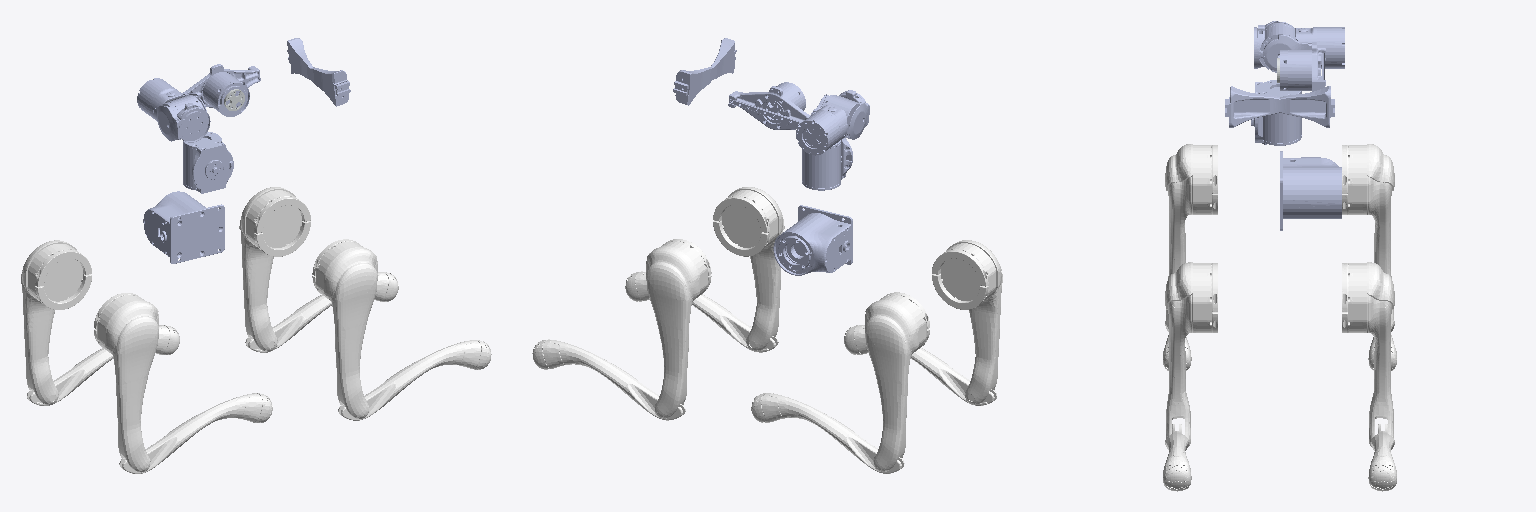
--- What the picture shows (computed from the rendered views, not written in the file) ---
3 views of the same robot in one strip: view 1: azimuth 30°, elevation 25°; view 2: azimuth 150°, elevation 25°; view 3: azimuth 270°, elevation 25° (orthographic).
Model go2arm_description with 39 links and 38 joints (12 revolute, 26 fixed), rooted at base, posed all joints at 0 but 4 set to mid-range because 0 is outside their limits (FL_calf_joint = -1.78, FR_calf_joint = -1.78, RL_calf_joint = -1.78, RR_calf_joint = -1.78).
Links seen in each view (by area): view 1: FR_thigh, RR_thigh, FL_thigh, RL_thigh, base_link, FR_calf, RR_calf, link1, gripper_base, link4, FL_calf, RL_calf (+3 smaller); view 2: FL_thigh, RL_thigh, RR_thigh, FR_thigh, base_link, RL_calf, FL_calf, gripper_base, link5, link1, RR_calf, FR_calf (+3 smaller); view 3: FL_thigh, FR_thigh, RL_thigh, RR_thigh, base_link, link5, gripper_base, link1, link8, link7, link4, FR_calf (+3 smaller).
Boxes of the visible links, box(x1,y1,x2,y2) form: FR_thigh: box(312, 239, 377, 418); RR_thigh: box(94, 293, 158, 472); FL_thigh: box(239, 187, 310, 351); RL_thigh: box(21, 240, 91, 404); base_link: box(143, 191, 224, 263); FR_calf: box(338, 340, 491, 420); RR_calf: box(119, 393, 272, 473); link1: box(183, 132, 233, 193); gripper_base: box(183, 64, 260, 116); link4: box(157, 95, 210, 142); FL_calf: box(245, 272, 398, 352); RL_calf: box(27, 325, 177, 405); FL_thigh: box(646, 239, 711, 418); RL_thigh: box(865, 292, 929, 471); RR_thigh: box(932, 240, 1002, 404); FR_thigh: box(713, 187, 784, 351); base_link: box(773, 205, 852, 275); RL_calf: box(751, 393, 904, 473); FL_calf: box(532, 340, 685, 420); gripper_base: box(728, 82, 810, 129); link5: box(796, 94, 847, 155); link1: box(802, 137, 852, 190); RR_calf: box(849, 325, 996, 405); FR_calf: box(627, 272, 778, 352); FL_thigh: box(1342, 262, 1394, 446); FR_thigh: box(1165, 262, 1217, 446); RL_thigh: box(1342, 144, 1394, 319); RR_thigh: box(1165, 144, 1217, 319); base_link: box(1280, 151, 1341, 230); link5: box(1263, 27, 1344, 70); gripper_base: box(1280, 42, 1325, 91); link1: box(1251, 80, 1301, 145); link8: box(1280, 86, 1334, 127); link7: box(1225, 86, 1279, 127); link4: box(1254, 21, 1295, 72); FR_calf: box(1163, 424, 1188, 489).
Bounding box of the posed robot: 0.6661 × 0.324 × 0.5563 m (x, y, z).
Meshes: 17 distinct files referenced, 20 mesh visuals loaded (13 Collada DAE); not drawn: 7 (reference not matched to a file when rendering).

URDF robot description (go2arm_description):
<?xml version="1.0" encoding="utf-8"?>
<!-- This URDF was automatically created by SolidWorks to URDF Exporter! Originally created by
Stephen Brawner ([email redacted]) 
     Commit Version: 1.6.0-4-g7f85cfe  Build Version: 1.6.7995.38578
     For more information, please see http://wiki.ros.org/sw_urdf_exporter -->
<robot
  name="go2arm_description">
  <link
    name="base">
    <inertial>
      <origin
        xyz="0.021112 0 -0.005366"
        rpy="0 0 0" />
      <mass
        value="6.921" />
      <inertia
        ixx="0.02448"
        ixy="0.00012166"
        ixz="0.0014849"
        iyy="0.098077"
        iyz="-3.12E-05"
        izz="0.107" />
    </inertial>
    <visual>
      <origin
        xyz="0 0 0"
        rpy="0 0 0" />
      <geometry>
        <mesh
          filename="../dae/base.dae" />
      </geometry>
      <material
        name="">
        <color
          rgba="1 1 1 1" />
      </material>
    </visual>
    <collision>
      <origin rpy="0 0 0" xyz="0 0 0" />
      <geometry>
        <box size="0.3762 0.0935 0.114" />
      </geometry>
    </collision>
  </link>

<joint name="base_to_dummy" type="fixed">
    <parent link="base"/>
    <child link="base_link"/>
    <origin xyz="0 0 0.07" rpy="0 0 0"/>
  </joint>

  <link
    name="base_link">
    <inertial>
      <origin 
        xyz="-0.00473641164191482 2.56829134630247E-05 0.041451518036016" 
        rpy="-1.5707963267948966 0 0" />
      <mass 
        value="1.02" />
      <inertia 
        ixx="0.00267433" 
        ixy="-0.00000073" 
        ixz="-0.00017389" 
        iyy="0.00282612" 
        iyz="0.0000004" 
        izz="0.00089624" />
    </inertial>
    <visual>
      <origin
        xyz="0 0 0"
        rpy="-1.5707963267948966 0 0" />
      <geometry>
        <mesh
          filename="../meshes/base_link.dae" />
      </geometry>
      <material
        name="">
        <color
          rgba="0.792156862745098 0.819607843137255 0.933333333333333 1" />
      </material>
    </visual>
    <collision>
      <origin
        xyz="0 0 0"
        rpy="-1.5707963267948966 0 0" />
      <geometry>
        <mesh
          filename="../meshes/base_link.dae" />
      </geometry>
    </collision>
  </link>
  
  <link
    name="link1">
    <inertial>
      <origin 
        xyz="0.000121504734057468 0.000104632162460536 -0.00438597309559853" 
        rpy="-1.5707963267948966 0 0" />
      <mass 
        value="0.71" />
      <inertia 
        ixx="0.00048916" 
        ixy="-0.00000036" 
        ixz="-0.00000224" 
        iyy="0.00040472" 
        iyz="-0.00000242" 
        izz="0.00043982" />
    </inertial>
    <visual>
      <origin
        xyz="0 0 0"
        rpy="-1.5707963267948966 0 0" />
      <geometry>
        <mesh
          filename="../meshes/link1.dae" />
      </geometry>
      <material
        name="">
        <color
          rgba="0.792156862745098 0.819607843137255 0.933333333333333 1" />
      </material>
    </visual>
    <collision>
      <origin
        xyz="0 0 0"
        rpy="-1.5707963267948966 0 0" />
      <geometry>
        <mesh
          filename="../meshes/link1.dae" />
      </geometry>
    </collision>
  </link>
  <joint
    name="joint1"
    type="fixed" dont_collapse="true">
    <origin
      xyz="0 0 0.123"
      rpy="0 0 0" />
    <parent
      link="base_link" />
    <child
      link="link1" />
    <axis
      xyz="0 0 0" />
    <limit
      lower="-2.618"
      upper="2.168"
      effort="100"
      velocity="5" />
  </joint>
  <link
    name="link2">
    <inertial>
      <origin 
        xyz="0.198666145229743 -0.010926924140076 0.00142121714502687" 
        rpy="-1.5707963267948966 0 0" />
      <mass 
        value="1.17" />
      <inertia 
        ixx="0.00116918" 
        ixy="-0.00180037" 
        ixz="0.00025146" 
        iyy="0.06785384" 
        iyz="-0.00000455" 
        izz="0.06774489" />
    </inertial>
    <visual>
      <origin
        xyz="0 0 0"
        rpy="-1.5707963267948966 0 0" />
      <geometry>
        <mesh
          filename="../meshes/link2.dae" />
      </geometry>
      <material
        name="">
        <color
          rgba="0.792156862745098 0.819607843137255 0.933333333333333 1" />
      </material>
    </visual>
    <collision>
      <origin
        xyz="0 0 0"
        rpy="-1.5707963267948966 0 0" />
      <geometry>
        <mesh
          filename="../meshes/link2.dae" />
      </geometry>
    </collision>
  </link>
  <joint
    name="joint2"
    type="fixed" dont_collapse="true">
    <origin
      xyz="0 0 0"
      rpy="1.5708 -0.1359 -3.1416" />
      <!-- rpy="1.5708 -0.10095-0.03490659 -3.1416" /> -->
    <parent
      link="link1" />
    <child
      link="link2" />
    <axis
      xyz="0 0 1" />
    <limit
      lower="0"
      upper="3.14"
      effort="100"
      velocity="5" />
  </joint>
  <link
    name="link3">
    <inertial>
      <origin 
        xyz="-0.0202737662122021 -0.133914995944595 -0.000458682652737356" 
        rpy="-1.5707963267948966 0 0" />
      <mass 
        value="0.5" />
      <inertia 
        ixx="0.01361711" 
        ixy="0.00165794" 
        ixz="-0.00000048" 
        iyy="0.00045024" 
        iyz="-0.00000045" 
        izz="0.01380322" />
    </inertial>
    <visual>
      <origin
        xyz="0 0 0"
        rpy="-1.5707963267948966 0 0" />
      <geometry>
        <mesh
          filename="../meshes/link3.dae" />
      </geometry>
      <material
        name="">
        <color
          rgba="0.792156862745098 0.819607843137255 0.933333333333333 1" />
      </material>
    </visual>
    <collision>
      <origin
        xyz="0 0 0"
        rpy="-1.5707963267948966 0 0" />
      <geometry>
        <mesh
          filename="../meshes/link3.dae" />
      </geometry>
    </collision>
  </link>
  <joint
    name="joint3"
    type="fixed" dont_collapse="true">
    <origin
      xyz="0.28503 0 0"
      rpy="0 0 -1.7939" />
      <!-- rpy="0 0 -1.759-0.03490659" /> -->
    <parent
      link="link2" />
    <child
      link="link3" />
    <axis
      xyz="0 0 1" />
    <limit
      lower="-2.967"
      upper="0"
      effort="100"
      velocity="5" />
  </joint>
  <link
    name="link4">
    <inertial>
      <origin 
        xyz="-9.66635791618542E-05 0.000876064475651083 -0.00496880904640868" 
        rpy="-1.5707963267948966 0 0" />
      <mass 
        value="0.38" />
      <inertia 
        ixx="0.00018501" 
        ixy="0.00000054" 
        ixz="0.00000120" 
        iyy="0.00018965" 
        iyz="-0.00000841" 
        izz="0.00015484" />
    </inertial>
    <visual>
      <origin
        xyz="0 0 0"
        rpy="-1.5707963267948966 0 0" />
      <geometry>
        <mesh
          filename="../meshes/link4.dae" />
      </geometry>
      <material
        name="">
        <color
          rgba="0.792156862745098 0.819607843137255 0.933333333333333 1" />
      </material>
    </visual>
    <collision>
      <origin
        xyz="0 0 0"
        rpy="-1.5707963267948966 0 0" />
      <geometry>
        <mesh
          filename="../meshes/link4.dae" />
      </geometry>
    </collision>
  </link>
  <joint
    name="joint4"
    type="fixed" dont_collapse="true">
    <origin
      xyz="-0.021984 -0.25075 0"
      rpy="1.5708 0 0" />
    <parent
      link="link3" />
    <child
      link="link4" />
    <axis
      xyz="0 0 1" />
    <limit
      lower="-1.745"
      upper="1.745"
      effort="100"
      velocity="5" />
  </joint>
  <link
    name="link5">
    <inertial>
      <origin 
        xyz="-4.10554118924211E-05 -0.0566486692356075 -0.0037205791677906" 
        rpy="-1.5707963267948966 0 0" />
      <mass 
        value="0.383" />
      <inertia 
        ixx="0.00166169" 
        ixy="0.00000006" 
        ixz="-0.00000007" 
        iyy="0.00018510" 
        iyz="0.00001026" 
        izz="0.00164321" />
    </inertial>
    <visual>
      <origin
        xyz="0 0 0"
        rpy="-1.5707963267948966 0 0" />
      <geometry>
        <mesh
          filename="../meshes/link5.dae" />
      </geometry>
      <material
        name="">
        <color
          rgba="0.792156862745098 0.819607843137255 0.933333333333333 1" />
      </material>
    </visual>
    <collision>
      <origin
        xyz="0 0 0"
        rpy="-1.5707963267948966 0 0" />
      <geometry>
        <mesh
          filename="../meshes/link5.dae" />
      </geometry>
    </collision>
  </link>
  <joint
    name="joint5"
    type="fixed" dont_collapse="true">
    <origin
      xyz="0 0 0"
      rpy="-1.5708 0 0" />
    <parent
      link="link4" />
    <child
      link="link5" />
    <axis
      xyz="0 0 1" />
    <limit
      lower="-1.22"
      upper="1.22"
      effort="100"
      velocity="5" />
  </joint>
  <link
    name="link6">
    <inertial>
      <origin 
        xyz="-8.82590762930069E-05 9.0598378529832E-06 -0.002" 
        rpy="-1.5707963267948966 0 0" />
      <mass 
        value="0.007" />
      <inertia 
        ixx="5.73015540542155E-07" 
        ixy="-1.98305403089247E-22" 
        ixz="-7.2791893904596E-23" 
        iyy="5.73015540542155E-07" 
        iyz="-3.4146026640245E-24" 
        izz="1.06738869138926E-06" />
    </inertial>
    <visual>
      <origin
        xyz="0 0 0"
        rpy="-1.5707963267948966 0 0" />
      <geometry>
        <mesh
          filename="../meshes/link6.dae" />
      </geometry>
      <material
        name="">
        <color
          rgba="0.898039215686275 0.917647058823529 0.929411764705882 1" />
      </material>
    </visual>
    <collision>
      <origin
        xyz="0 0 0"
        rpy="-1.5707963267948966 0 0" />
      <geometry>
        <mesh
          filename="../meshes/link6.dae" />
      </geometry>
    </collision>
  </link>
  <joint
    name="joint6"
    type="fixed" dont_collapse="true">
    <origin
      xyz="8.8259E-05 -0.091 0"
      rpy="1.5708 0 0" />
    <parent
      link="link5" />
    <child
      link="link6" />
    <axis
      xyz="0 0 1" />
    <limit
      lower="-2.0944"
      upper="2.0944"
      effort="100"
      velocity="3" />
  </joint>
  <link
    name="gripper_base">
    <inertial>
      <origin
        xyz="-0.000183807162235591 8.05033155577911E-05 0.0321436689908876"
        rpy="-1.5707963267948966 0 0" />
      <mass
        value="0.45" />
      <inertia
        ixx="0.00092934"
        ixy="0.00000034"
        ixz="-0.00000738"
        iyy="0.00071447"
        iyz="0.00000005"
        izz="0.00039442" />
    </inertial>
    <visual>
      <origin
        xyz="0 0 0"
        rpy="-1.5707963267948966 0 0" />
      <geometry>
        <mesh
          filename="../meshes/gripper_base.dae" />
      </geometry>
      <material
        name="">
        <color
          rgba="0.792156862745098 0.819607843137255 0.933333333333333 1" />
      </material>
    </visual>
    <collision>
      <origin
        xyz="0 0 0"
        rpy="-1.5707963267948966 0 0" />
      <geometry>
        <mesh
          filename="../meshes/gripper_base.dae" />
      </geometry>
    </collision>
  </link> 
  <joint
    name="joint6_to_gripper_base"
    type="fixed">
    <origin
      xyz="0 0 0"
      rpy="0 0 0" />
    <parent
      link="link6" />
    <child
      link="gripper_base" />
  </joint>
  <link
    name="link7">
    <inertial>
      <origin
        xyz="0.00065123185041968 -0.0491929869131989 0.00972258769184025"
        rpy="-1.5707963267948966 0 0" />
      <mass
        value="0.025" />
      <inertia
        ixx="0.00007371"
        ixy="-0.00000113"
        ixz="0.00000021"
        iyy="0.00000781"
        iyz="-0.00001372"
        izz="0.0000747" />
    </inertial>
    <visual>
      <origin
        xyz="0 0 0"
        rpy="-1.5707963267948966 0 0" />
      <geometry>
        <mesh
          filename="../meshes/link7.dae" />
      </geometry>
      <material
        name="">
        <color
          rgba="0.792156862745098 0.819607843137255 0.933333333333333 1" />
      </material>
    </visual>
    <collision>
      <origin
        xyz="0 0 0"
        rpy="-1.5707963267948966 0 0" />
      <geometry>
        <mesh
          filename="../meshes/link7.dae" />
      </geometry>
    </collision>
  </link>
  <joint
    name="r_finger_joint"
    type="fixed" dont_collapse="true">
    <origin
      xyz="0 0 0.1358"
      rpy="1.5708 0 0" />
    <parent
      link="gripper_base" />
    <child
      link="link7" />
    <axis
      xyz="0 0 1" />
    <limit
      lower="0"
      upper="0.035"
      effort="10"
      velocity="1" />
  </joint>
  <link
    name="link8">
    <inertial>
      <origin
        xyz="0.000651231850419722 -0.0491929869131991 0.00972258769184024"
        rpy="-1.5707963267948966 0 0" />
      <mass
        value="0.025" />
      <inertia
        ixx="0.00007371"
        ixy="-0.00000113"
        ixz="0.00000021"
        iyy="0.00000781"
        iyz="-0.00001372"
        izz="0.0000747" />
    </inertial>
    <visual>
      <origin
        xyz="0 0 0"
        rpy="-1.5707963267948966 0 0" />
      <geometry>
        <mesh
          filename="../meshes/link8.dae" />
      </geometry>
      <material
        name="">
        <color
          rgba="0.792156862745098 0.819607843137255 0.933333333333333 1" />
      </material>
    </visual>
    <collision>
      <origin
        xyz="0 0 0"
        rpy="-1.5707963267948966 0 0" />
      <geometry>
        <mesh
          filename="../meshes/link8.dae" />
      </geometry>
    </collision>
  </link>
  <joint
    name="l_finger_joint"
    type="fixed" dont_collapse="true">
    <origin
      xyz="0 0 0.1358"
      rpy="1.5708 0 -3.1416" />
    <parent
      link="gripper_base" />
    <child
      link="link8" />
    <axis
      xyz="0 0 -1" />
    <limit
      lower="-0.035"
      upper="0"
      effort="10"
      velocity="1" />
  </joint>

  <link
    name="Head_upper">
    <inertial>
      <origin
        xyz="0 0 0"
        rpy="0 0 0" />
      <mass
        value="0.001" />
      <inertia
        ixx="9.6e-06"
        ixy="0"
        ixz="0"
        iyy="9.6e-06"
        iyz="0"
        izz="9.6e-06" />
    </inertial>
    <collision>
      <origin
        xyz="0 0 0"
        rpy="0 0 0" />
      <geometry>
        <cylinder radius="0.05" length="0.09" />
      </geometry>
    </collision>
  </link>
  <joint
    name="Head_upper_joint"
    type="fixed" dont_collapse="true">
    <origin
      xyz="0.285 0 0.01"
      rpy="0 0 0" />
    <parent
      link="base" />
    <child
      link="Head_upper" />
    <axis
      xyz="0 0 0" />
  </joint>
  <link
    name="Head_lower">
    <inertial>
      <origin
        xyz="0 0 0"
        rpy="0 0 0" />
      <mass
        value="0.001" />
      <inertia
        ixx="9.6e-06"
        ixy="0"
        ixz="0"
        iyy="9.6e-06"
        iyz="0"
        izz="9.6e-06" />
    </inertial>
    <collision>
      <origin
        xyz="0 0 0"
        rpy="0 0 0" />
      <geometry>
        <sphere radius="0.047" />
      </geometry>
    </collision>
  </link>
  <joint
    name="Head_lower_joint"
    type="fixed" dont_collapse="true">
    <origin
      xyz="0.008 0 -0.07"
      rpy="0 0 0" />
    <parent
      link="Head_upper" />
    <child
      link="Head_lower" />
    <axis
      xyz="0 0 0" />
  </joint>
  <link
    name="FL_hip">
    <inertial>
      <origin
        xyz="-0.0054 0.00194 -0.000105"
        rpy="0 0 0" />
      <mass
        value="0.678" />
      <inertia
        ixx="0.00048"
        ixy="-3.01E-06"
        ixz="1.11E-06"
        iyy="0.000884"
        iyz="-1.42E-06"
        izz="0.000596" />
    </inertial>
    <visual>
      <origin
        xyz="0 0 0"
        rpy="0 0 0" />
      <geometry>
        <mesh
          filename="../dae/hip.dae" />
      </geometry>
      <material
        name="">
        <color
          rgba="1 1 1 1" />
      </material>
    </visual>
    <collision>
      <origin rpy="1.5707963267948966 0 0" xyz="0 0.08 0" />
      <geometry>
        <cylinder length="0.04" radius="0.046" />
      </geometry>
    </collision>
  </link>
  <joint
    name="FL_hip_joint"
    type="revolute">
    <origin
      xyz="0.1934 0.0465 0"
      rpy="0 0 0" />
    <parent
      link="base" />
    <child
      link="FL_hip" />
    <axis
      xyz="1 0 0" />
    <limit
      lower="-1.0472"
      upper="1.0472"
      effort="23.7"
      velocity="30.1" />
  </joint>
  <link
    name="FL_thigh">
    <inertial>
      <origin
        xyz="-0.00374 -0.0223 -0.0327"
        rpy="0 0 0" />
      <mass
        value="1.152" />
      <inertia
        ixx="0.00584"
        ixy="8.72E-05"
        ixz="-0.000289"
        iyy="0.0058"
        iyz="0.000808"
        izz="0.00103" />
    </inertial>
    <visual>
      <origin
        xyz="0 0 0"
        rpy="0 0 0" />
      <geometry>
        <mesh
          filename="../dae/thigh.dae" />
      </geometry>
      <material
        name="">
        <color
          rgba="1 1 1 1" />
      </material>
    </visual>
    <collision>
      <origin rpy="0 1.5707963267948966 0" xyz="0 0 -0.1065" />
      <geometry>
        <box size="0.11 0.0245 0.034" />
      </geometry>
    </collision>
  </link>
  <joint
    name="FL_thigh_joint"
    type="revolute">
    <origin
      xyz="0 0.0955 0"
      rpy="0 0 0" />
    <parent
      link="FL_hip" />
    <child
      link="FL_thigh" />
    <axis
      xyz="0 1 0" />
    <limit
      lower="-1.5708"
      upper="3.4907"
      effort="23.7"
      velocity="30.1" />
  </joint>
  <link
    name="FL_calf">
    <inertial>
      <origin
        xyz="0.00548 -0.000975 -0.115"
        rpy="0 0 0" />
      <mass
        value="0.154" />
      <inertia
        ixx="0.00108"
        ixy="3.4E-07"
        ixz="1.72E-05"
        iyy="0.0011"
        iyz="8.28E-06"
        izz="3.29E-05" />
    </inertial>
    <visual>
      <origin
        xyz="0 0 0"
        rpy="0 0 0" />
      <geometry>
        <mesh
          filename="../dae/calf.dae" />
      </geometry>
      <material
        name="">
        <color
          rgba="1 1 1 1" />
      </material>
    </visual>
    <collision>
      <origin rpy="0 -0.21 0" xyz="0.008 0 -0.06" />
      <geometry>
        <cylinder length="0.12" radius="0.012" />
      </geometry>
    </collision>
  </link>
  <joint
    name="FL_calf_joint"
    type="revolute">
    <origin
      xyz="0 0 -0.213"
      rpy="0 0 0" />
    <parent
      link="FL_thigh" />
    <child
      link="FL_calf" />
    <axis
      xyz="0 1 0" />
    <limit
      lower="-2.7227"
      upper="-0.83776"
      effort="35.55"
      velocity="20.07" />
  </joint>
  <link
    name="FL_calflower">
    <collision>
      <origin rpy="0 0 0" xyz="0 0 0" />
      <geometry>
        <cylinder length="0.065" radius="0.011" />
      </geometry>
    </collision>
  </link>
  <joint
    name="FL_calflower_joint"
    type="fixed">
    <origin
      xyz="0.020 0 -0.148"
      rpy="0 0.05 0" />
    <parent
      link="FL_calf" />
    <child
      link="FL_calflower" />
    <axis
      xyz="0 0 0" />
  </joint>
  <link
    name="FL_calflower1">
    <collision>
      <origin rpy="0 0 0" xyz="0 0 0" />
      <geometry>
        <cylinder length="0.03" radius="0.0155" />
      </geometry>
    </collision>
  </link>
  <joint
    name="FL_calflower1_joint"
    type="fixed">
    <origin
      xyz="-0.01 0 -0.04"
      rpy="0 0.48 0" />
    <parent
      link="FL_calflower" />
    <child
      link="FL_calflower1" />
    <axis
      xyz="0 0 0" />
  </joint>
  <link
    name="FL_foot">
    <inertial>
      <origin
        xyz="0 0 0"
        rpy="0 0 0" />
      <mass
        value="0.04" />
      <inertia
        ixx="9.6e-06"
        ixy="0"
        ixz="0"
        iyy="9.6e-06"
        iyz="0"
        izz="9.6e-06" />
    </inertial>
    <visual>
      <origin
        xyz="0 0 0"
        rpy="0 0 0" />
      <geometry>
        <mesh
          filename="../dae/foot.dae" />
      </geometry>
      <material
        name="">
        <color
          rgba="1 1 1 1" />
      </material>
    </visual>
    <collision>
      <origin rpy="0 0 0" xyz="-0.002 0 0" />
      <geometry>
        <sphere radius="0.022" />
      </geometry>
    </collision>
  </link>
  <joint
    name="FL_foot_joint"
    type="fixed" dont_collapse="true">
    <origin
      xyz="0 0 -0.213"
      rpy="0 0 0" />
    <parent
      link="FL_calf" />
    <child
      link="FL_foot" />
    <axis
      xyz="0 0 0" />
  </joint>
  <link
    name="FR_hip">
    <inertial>
      <origin
        xyz="-0.0054 -0.00194 -0.000105"
        rpy="0 0 0" />
      <mass
        value="0.678" />
      <inertia
        ixx="0.00048"
        ixy="3.01E-06"
        ixz="1.11E-06"
        iyy="0.000884"
        iyz="1.42E-06"
        izz="0.000596" />
    </inertial>
    <visual>
      <origin
        xyz="0 0 0"
        rpy="3.1415 0 0" />
      <geometry>
        <mesh
          filename="../dae/hip.dae" />
      </geometry>
      <material
        name="">
        <color
          rgba="1 1 1 1" />
      </material>
    </visual>
    <collision>
      <origin rpy="1.5707963267948966 0 0" xyz="0 -0.08 0" />
      <geometry>
        <cylinder length="0.04" radius="0.046" />
      </geometry>
    </collision>
  </link>
  <joint
    name="FR_hip_joint"
    type="revolute">
    <origin
      xyz="0.1934 -0.0465 0"
      rpy="0 0 0" />
    <parent
      link="base" />
    <child
      link="FR_hip" />
    <axis
      xyz="1 0 0" />
    <limit
      lower="-1.0472"
      upper="1.0472"
      effort="23.7"
      velocity="30.1" />
  </joint>
  <link
    name="FR_thigh">
    <inertial>
      <origin
        xyz="-0.00374 0.0223 -0.0327"
        rpy="0 0 0" />
      <mass
        value="1.152" />
      <inertia
        ixx="0.00584"
        ixy="-8.72E-05"
        ixz="-0.000289"
        iyy="0.0058"
        iyz="-0.000808"
        izz="0.00103" />
    </inertial>
    <visual>
      <origin
        xyz="0 0 0"
        rpy="0 0 0" />
      <geometry>
        <mesh
          filename="../dae/thigh_mirror.dae" />
      </geometry>
      <material
        name="">
        <color
          rgba="1 1 1 1" />
      </material>
    </visual>
    <collision>
      <origin rpy="0 1.5707963267948966 0" xyz="0 0 -0.1065" />
      <geometry>
        <box size="0.11 0.0245 0.034" />
      </geometry>
    </collision>
  </link>
  <joint
    name="FR_thigh_joint"
    type="revolute">
    <origin
      xyz="0 -0.0955 0"
      rpy="0 0 0" />
    <parent
      link="FR_hip" />
    <child
      link="FR_thigh" />
    <axis
      xyz="0 1 0" />
    <limit
      lower="-1.5708"
      upper="3.4907"
      effort="23.7"
      velocity="30.1" />
  </joint>
  <link
    name="FR_calf">
    <inertial>
      <origin
        xyz="0.00548 0.000975 -0.115"
        rpy="0 0 0" />
      <mass
        value="0.154" />
      <inertia
        ixx="0.00108"
        ixy="-3.4E-07"
        ixz="1.72E-05"
        iyy="0.0011"
        iyz="-8.28E-06"
        izz="3.29E-05" />
    </inertial>
    <visual>
      <origin
        xyz="0 0 0"
        rpy="0 0 0" />
      <geometry>
        <mesh
          filename="../dae/calf_mirror.dae" />
      </geometry>
      <material
        name="">
        <color
          rgba="1 1 1 1" />
      </material>
    </visual>
    <collision>
      <origin rpy="0 -0.2 0" xyz="0.01 0 -0.06" />
      <geometry>
        <cylinder length="0.12" radius="0.013" />
      </geometry>
    </collision>
  </link>
  <joint
    name="FR_calf_joint"
    type="revolute">
    <origin
      xyz="0 0 -0.213"
      rpy="0 0 0" />
    <parent
      link="FR_thigh" />
    <child
      link="FR_calf" />
    <axis
      xyz="0 1 0" />
    <limit
      lower="-2.7227"
      upper="-0.83776"
      effort="35.55"
      velocity="20.07" />
  </joint>
  <link
    name="FR_calflower">
    <collision>
      <origin rpy="0 0 0" xyz="0 0 0" />
      <geometry>
        <cylinder length="0.065" radius="0.011" />
      </geometry>
    </collision>
  </link>
  <joint
    name="FR_calflower_joint"
    type="fixed">
    <origin
      xyz="0.020 0 -0.148"
      rpy="0 0.05 0" />
    <parent
      link="FR_calf" />
    <child
      link="FR_calflower" />
    <axis
      xyz="0 0 0" />
  </joint>
  <link
    name="FR_calflower1">
    <collision>
      <origin rpy="0 0 0" xyz="0 0 0" />
      <geometry>
        <cylinder length="0.03" radius="0.0155" />
      </geometry>
    </collision>
  </link>
  <joint
    name="FR_calflower1_joint"
    type="fixed">
    <origin
      xyz="-0.01 0 -0.04"
      rpy="0 0.48 0" />
    <parent
      link="FR_calflower" />
    <child
      link="FR_calflower1" />
    <axis
      xyz="0 0 0" />
  </joint>
  <link
    name="FR_foot">
    <inertial>
      <origin
        xyz="0 0 0"
        rpy="0 0 0" />
      <mass
        value="0.04" />
      <inertia
        ixx="9.6e-06"
        ixy="0"
        ixz="0"
        iyy="9.6e-06"
        iyz="0"
        izz="9.6e-06" />
    </inertial>
    <visual>
      <origin
        xyz="0 0 0"
        rpy="0 0 0" />
      <geometry>
        <mesh
          filename="../dae/foot.dae" />
      </geometry>
      <material
        name="">
        <color
          rgba="1 1 1 1" />
      </material>
    </visual>
    <collision>
      <origin rpy="0 0 0" xyz="-0.002 0 0" />
      <geometry>
        <sphere radius="0.022" />
      </geometry>
    </collision>
  </link>
  <joint
    name="FR_foot_joint"
    type="fixed" dont_collapse="true">
    <origin
      xyz="0 0 -0.213"
      rpy="0 0 0" />
    <parent
      link="FR_calf" />
    <child
      link="FR_foot" />
    <axis
      xyz="0 0 0" />
  </joint>
  <link
    name="RL_hip">
    <inertial>
      <origin
        xyz="0.0054 0.00194 -0.000105"
        rpy="0 0 0" />
      <mass
        value="0.678" />
      <inertia
        ixx="0.00048"
        ixy="3.01E-06"
        ixz="-1.11E-06"
        iyy="0.000884"
        iyz="-1.42E-06"
        izz="0.000596" />
    </inertial>
    <visual>
      <origin
        xyz="0 0 0"
        rpy="0 3.1415 0" />
      <geometry>
        <mesh
          filename="../dae/hip.dae" />
      </geometry>
      <material
        name="">
        <color
          rgba="1 1 1 1" />
      </material>
    </visual>
    <collision>
      <origin rpy="1.5707963267948966 0 0" xyz="0 0.08 0" />
      <geometry>
        <cylinder length="0.04" radius="0.046" />
      </geometry>
    </collision>
  </link>
  <joint
    name="RL_hip_joint"
    type="revolute">
    <origin
      xyz="-0.1934 0.0465 0"
      rpy="0 0 0" />
    <parent
      link="base" />
    <child
      link="RL_hip" />
    <axis
      xyz="1 0 0" />
    <limit
      lower="-1.0472"
      upper="1.0472"
      effort="23.7"
      velocity="30.1" />
  </joint>
  <link
    name="RL_thigh">
    <inertial>
      <origin
        xyz="-0.00374 -0.0223 -0.0327"
        rpy="0 0 0" />
      <mass
        value="1.152" />
      <inertia
        ixx="0.00584"
        ixy="8.72E-05"
        ixz="-0.000289"
        iyy="0.0058"
        iyz="0.000808"
        izz="0.00103" />
    </inertial>
    <visual>
      <origin
        xyz="0 0 0"
        rpy="0 0 0" />
      <geometry>
        <mesh
          filename="../dae/thigh.dae" />
      </geometry>
      <material
        name="">
        <color
          rgba="1 1 1 1" />
      </material>
    </visual>
    <collision>
      <origin rpy="0 1.5707963267948966 0" xyz="0 0 -0.1065" />
      <geometry>
        <box size="0.11 0.0245 0.034" />
      </geometry>
    </collision>
  </link>
  <joint
    name="RL_thigh_joint"
    type="revolute">
    <origin
      xyz="0 0.0955 0"
      rpy="0 0 0" />
    <parent
      link="RL_hip" />
    <child
      link="RL_thigh" />
    <axis
      xyz="0 1 0" />
    <limit
      lower="-0.5236"
      upper="4.5379"
      effort="23.7"
      velocity="30.1" />
  </joint>
  <link
    name="RL_calf">
    <inertial>
      <origin
        xyz="0.00548 -0.000975 -0.115"
        rpy="0 0 0" />
      <mass
        value="0.154" />
      <inertia
        ixx="0.00108"
        ixy="3.4E-07"
        ixz="1.72E-05"
        iyy="0.0011"
        iyz="8.28E-06"
        izz="3.29E-05" />
    </inertial>
    <visual>
      <origin
        xyz="0 0 0"
        rpy="0 0 0" />
      <geometry>
        <mesh
          filename="../dae/calf.dae" />
      </geometry>
      <material
        name="">
        <color
          rgba="1 1 1 1" />
      </material>
    </visual>
    <collision>
      <origin rpy="0 -0.2 0" xyz="0.01 0 -0.06" />
      <geometry>
        <cylinder length="0.12" radius="0.013" />
      </geometry>
    </collision>
  </link>
  <joint
    name="RL_calf_joint"
    type="revolute">
    <origin
      xyz="0 0 -0.213"
      rpy="0 0 0" />
    <parent
      link="RL_thigh" />
    <child
      link="RL_calf" />
    <axis
      xyz="0 1 0" />
    <limit
      lower="-2.7227"
      upper="-0.83776"
      effort="35.55"
      velocity="20.07" />
  </joint>
  <link
    name="RL_calflower">
    <collision>
      <origin rpy="0 0 0" xyz="0 0 0" />
      <geometry>
        <cylinder length="0.065" radius="0.011" />
      </geometry>
    </collision>
  </link>
  <joint
    name="RL_calflower_joint"
    type="fixed">
    <origin
      xyz="0.020 0 -0.148"
      rpy="0 0.05 0" />
    <parent
      link="RL_calf" />
    <child
      link="RL_calflower" />
    <axis
      xyz="0 0 0" />
  </joint>
  <link
    name="RL_calflower1">
    <collision>
      <origin rpy="0 0 0" xyz="0 0 0" />
      <geometry>
        <cylinder length="0.03" radius="0.0155" />
      </geometry>
    </collision>
  </link>
  <joint
    name="RL_calflower1_joint"
    type="fixed">
    <origin
      xyz="-0.01 0 -0.04"
      rpy="0 0.48 0" />
    <parent
      link="RL_calflower" />
    <child
      link="RL_calflower1" />
    <axis
      xyz="0 0 0" />
  </joint>
  <link
    name="RL_foot">
    <inertial>
      <origin
        xyz="0 0 0"
        rpy="0 0 0" />
      <mass
        value="0.04" />
      <inertia
        ixx="9.6e-06"
        ixy="0"
        ixz="0"
        iyy="9.6e-06"
        iyz="0"
        izz="9.6e-06" />
    </inertial>
    <visual>
      <origin
        xyz="0 0 0"
        rpy="0 0 0" />
      <geometry>
        <mesh
          filename="../dae/foot.dae" />
      </geometry>
      <material
        name="">
        <color
          rgba="1 1 1 1" />
      </material>
    </visual>
    <collision>
      <origin rpy="0 0 0" xyz="-0.002 0 0" />
      <geometry>
        <sphere radius="0.022" />
      </geometry>
    </collision>
  </link>
  <joint
    name="RL_foot_joint"
    type="fixed" dont_collapse="true">
    <origin
      xyz="0 0 -0.213"
      rpy="0 0 0" />
    <parent
      link="RL_calf" />
    <child
      link="RL_foot" />
    <axis
      xyz="0 0 0" />
  </joint>
  <link
    name="RR_hip">
    <inertial>
      <origin
        xyz="0.0054 -0.00194 -0.000105"
        rpy="0 0 0" />
      <mass
        value="0.678" />
      <inertia
        ixx="0.00048"
        ixy="-3.01E-06"
        ixz="-1.11E-06"
        iyy="0.000884"
        iyz="1.42E-06"
        izz="0.000596" />
    </inertial>
    <visual>
      <origin
        xyz="0 0 0"
        rpy="3.1415 3.1415 0" />
      <geometry>
        <mesh
          filename="../dae/hip.dae" />
      </geometry>
      <material
        name="">
        <color
          rgba="1 1 1 1" />
      </material>
    </visual>
    <collision>
      <origin rpy="1.5707963267948966 0 0" xyz="0 -0.08 0" />
      <geometry>
        <cylinder length="0.04" radius="0.046" />
      </geometry>
    </collision>
  </link>
  <joint
    name="RR_hip_joint"
    type="revolute">
    <origin
      xyz="-0.1934 -0.0465 0"
      rpy="0 0 0" />
    <parent
      link="base" />
    <child
      link="RR_hip" />
    <axis
      xyz="1 0 0" />
    <limit
      lower="-1.0472"
      upper="1.0472"
      effort="23.7"
      velocity="30.1" />
  </joint>
  <link
    name="RR_thigh">
    <inertial>
      <origin
        xyz="-0.00374 0.0223 -0.0327"
        rpy="0 0 0" />
      <mass
        value="1.152" />
      <inertia
        ixx="0.00584"
        ixy="-8.72E-05"
        ixz="-0.000289"
        iyy="0.0058"
        iyz="-0.000808"
        izz="0.00103" />
    </inertial>
    <visual>
      <origin
        xyz="0 0 0"
        rpy="0 0 0" />
      <geometry>
        <mesh
          filename="../dae/thigh_mirror.dae" />
      </geometry>
      <material
        name="">
        <color
          rgba="1 1 1 1" />
      </material>
    </visual>
    <collision>
      <origin rpy="0 1.5707963267948966 0" xyz="0 0 -0.1065" />
      <geometry>
        <box size="0.11 0.0245 0.034" />
      </geometry>
    </collision>
  </link>
  <joint
    name="RR_thigh_joint"
    type="revolute">
    <origin
      xyz="0 -0.0955 0"
      rpy="0 0 0" />
    <parent
      link="RR_hip" />
    <child
      link="RR_thigh" />
    <axis
      xyz="0 1 0" />
    <limit
      lower="-0.5236"
      upper="4.5379"
      effort="23.7"
      velocity="30.1" />
  </joint>
  <link
    name="RR_calf">
    <inertial>
      <origin
        xyz="0.00548 0.000975 -0.115"
        rpy="0 0 0" />
      <mass
        value="0.154" />
      <inertia
        ixx="0.00108"
        ixy="-3.4E-07"
        ixz="1.72E-05"
        iyy="0.0011"
        iyz="-8.28E-06"
        izz="3.29E-05" />
    </inertial>
    <visual>
      <origin
        xyz="0 0 0"
        rpy="0 0 0" />
      <geometry>
        <mesh
          filename="../dae/calf_mirror.dae" />
      </geometry>
      <material
        name="">
        <color
          rgba="1 1 1 1" />
      </material>
    </visual>
    <collision>
      <origin rpy="0 -0.2 0" xyz="0.01 0 -0.06" />
      <geometry>
        <cylinder length="0.12" radius="0.013" />
      </geometry>
    </collision>
  </link>
  <joint
    name="RR_calf_joint"
    type="revolute">
    <origin
      xyz="0 0 -0.213"
      rpy="0 0 0" />
    <parent
      link="RR_thigh" />
    <child
      link="RR_calf" />
    <axis
      xyz="0 1 0" />
    <limit
      lower="-2.7227"
      upper="-0.83776"
      effort="35.55"
      velocity="20.07" />
  </joint>
  <link
    name="RR_calflower">
    <collision>
      <origin rpy="0 0 0" xyz="0 0 0" />
      <geometry>
        <cylinder length="0.065" radius="0.011" />
      </geometry>
    </collision>
  </link>
  <joint
    name="RR_calflower_joint"
    type="fixed">
    <origin
      xyz="0.020 0 -0.148"
      rpy="0 0.05 0" />
    <parent
      link="RR_calf" />
    <child
      link="RR_calflower" />
    <axis
      xyz="0 0 0" />
  </joint>
  <link
    name="RR_calflower1">
    <collision>
      <origin rpy="0 0 0" xyz="0 0 0" />
      <geometry>
        <cylinder length="0.03" radius="0.0155" />
      </geometry>
    </collision>
  </link>
  <joint
    name="RR_calflower1_joint"
    type="fixed">
    <origin
      xyz="-0.01 0 -0.04"
      rpy="0 0.48 0" />
    <parent
      link="RR_calflower" />
    <child
      link="RR_calflower1" />
    <axis
      xyz="0 0 0" />
  </joint>
  <link
    name="RR_foot">
    <inertial>
      <origin
        xyz="0 0 0"
        rpy="0 0 0" />
      <mass
        value="0.04" />
      <inertia
        ixx="9.6e-06"
        ixy="0"
        ixz="0"
        iyy="9.6e-06"
        iyz="0"
        izz="9.6e-06" />
    </inertial>
    <visual>
      <origin
        xyz="0 0 0"
        rpy="0 0 0" />
      <geometry>
        <mesh
          filename="../dae/foot.dae" />
      </geometry>
      <material
        name="">
        <color
          rgba="1 1 1 1" />
      </material>
    </visual>
    <collision>
      <origin rpy="0 0 0" xyz="-0.002 0 0" />
      <geometry>
        <sphere radius="0.022" />
      </geometry>
    </collision>
  </link>
  <joint
    name="RR_foot_joint"
    type="fixed" dont_collapse="true">
    <origin
      xyz="0 0 -0.213"
      rpy="0 0 0" />
    <parent
      link="RR_calf" />
    <child
      link="RR_foot" />
    <axis
      xyz="0 0 0" />
  </joint>
  <link
    name="imu">
    <inertial>
      <origin
        xyz="0 0 0"
        rpy="0 0 0" />
      <mass
        value="0" />
      <inertia
        ixx="0"
        ixy="0"
        ixz="0"
        iyy="0"
        iyz="0"
        izz="0" />
    </inertial>
  </link>
  <joint
    name="imu_joint"
    type="fixed">
    <origin
      xyz="-0.02557 0 0.04232"
      rpy="0 0 0" />
    <parent
      link="base" />
    <child
      link="imu" />
    <axis
      xyz="0 0 0" />
  </joint>
  <link
    name="radar">
    <inertial>
      <origin
        xyz="0 0 0"
        rpy="0 0 0" />
      <mass
        value="0" />
      <inertia
        ixx="0"
        ixy="0"
        ixz="0"
        iyy="0"
        iyz="0"
        izz="0" />
    </inertial>
  </link>
  <joint
    name="radar_joint"
    type="fixed">
    <origin
      xyz="0.28945 0 -0.046825"
      rpy="0 2.8782 0" />
    <parent
      link="base" />
    <child
      link="radar" />
    <axis
      xyz="0 0 0" />
  </joint>
</robot>
